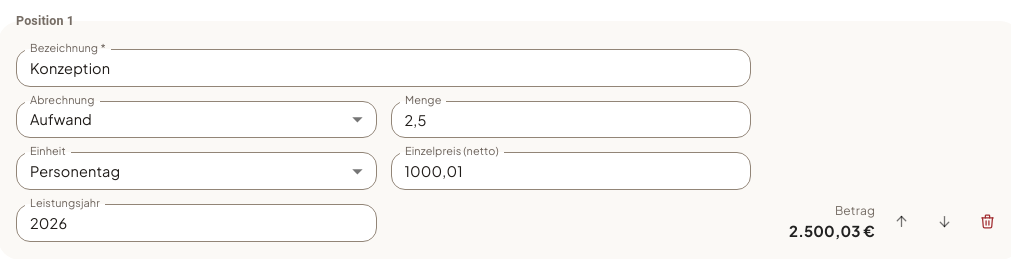
Scenario: Positionsmaske — der Betrag rechnet mit (Kriterium 5) › rechnet beim Tippen mit
Replace the text in the field labelled "Menge" with "3" at (571, 120), box x1=390 y1=101 x2=751 y2=138
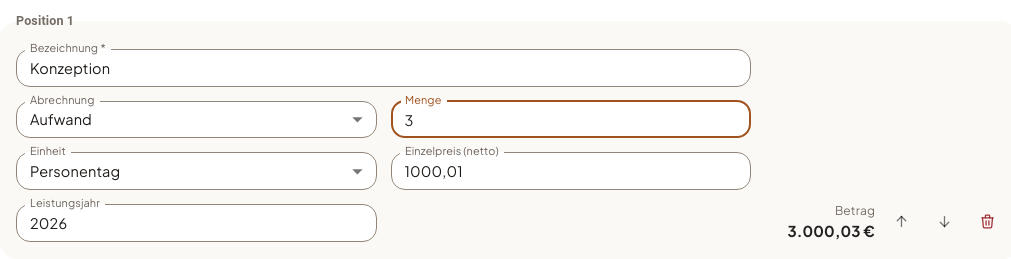
Check: the text with test id "positions-betrag" reads "3.000,03 €", box x1=787 y1=221 x2=875 y2=240
